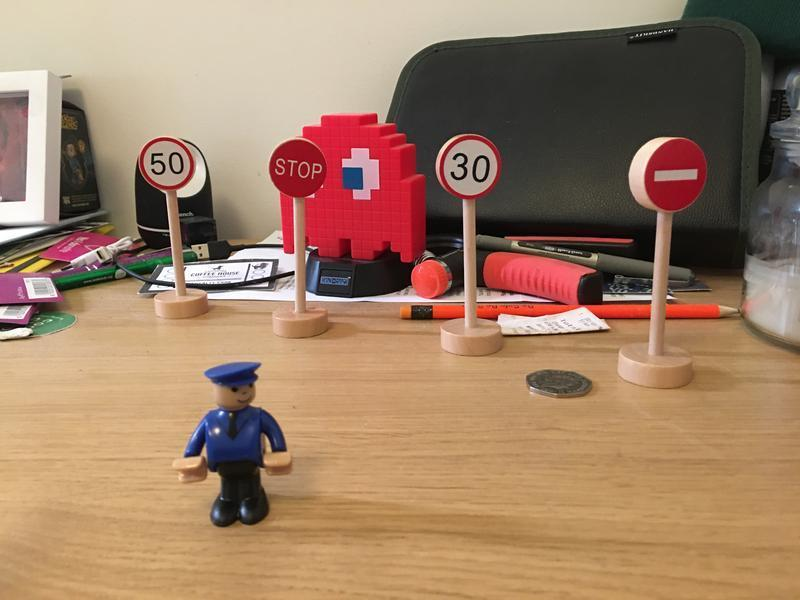Traffic_Sign_30: (437, 134, 501, 202)
Traffic_Sign_50: (138, 139, 196, 192)
Traffic_Sign_No_Entry: (640, 140, 709, 209)
Traffic_Sign_Stop: (269, 141, 327, 194)
person: (170, 357, 296, 535)
